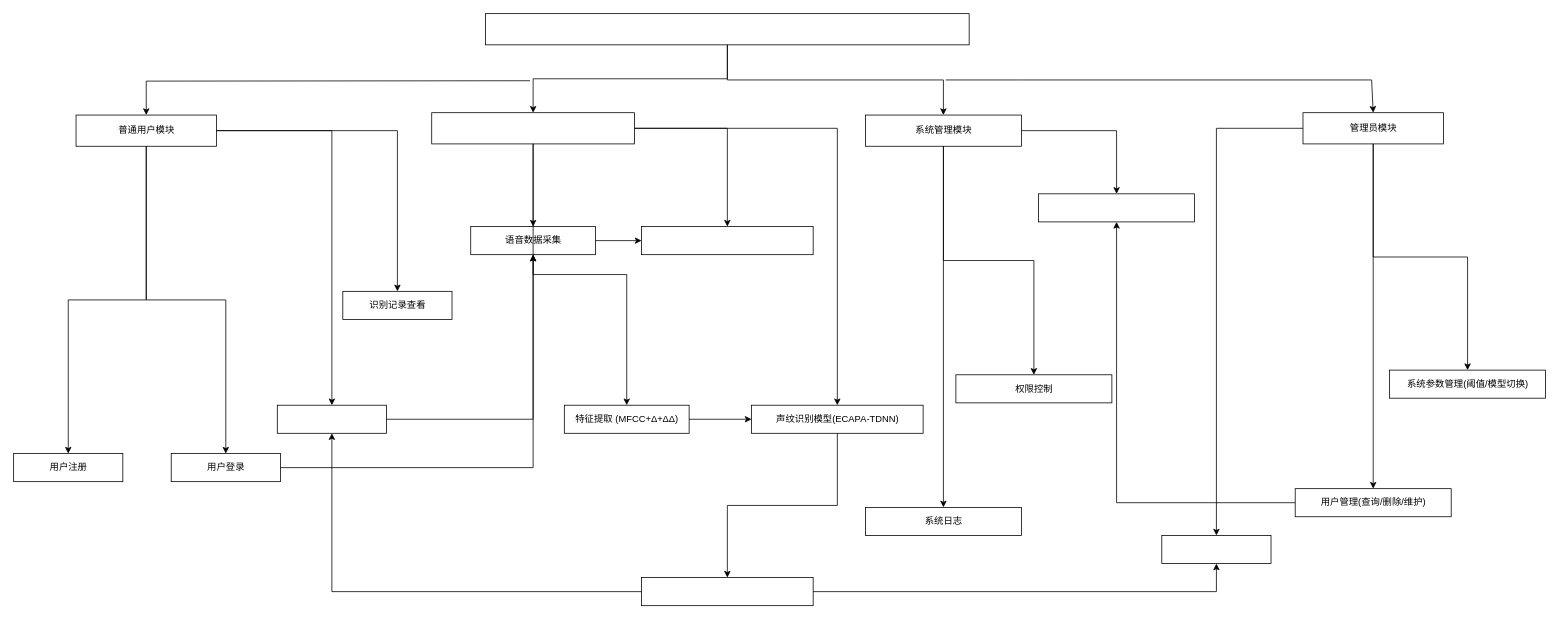
This 1559x619 diagram has some shape labels left out. The shapes that lost their labels are listed below. From the top down, each one's centre as x and y in pixels, then its label:
At pixel 727 29: "基于声纹识别的智能门禁系统".
At pixel 533 128: "声纹识别核心模块".
At pixel 1116 207: "数据存储管理(用户/特征/日志)".
At pixel 727 240: "语音预处理(静音/预加重/分帧)".
At pixel 331 418: "门禁验证".
At pixel 1216 549: "识别日志管理".
At pixel 727 591: "相似度计算与身份判决".
